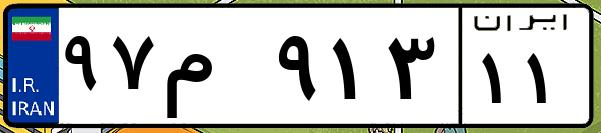1: (330, 28, 385, 110), (475, 38, 525, 113), (525, 38, 570, 115)
3: (385, 28, 445, 110)
7: (110, 28, 158, 98)
9: (270, 28, 330, 110), (57, 26, 110, 100)
م: (158, 20, 270, 120)
